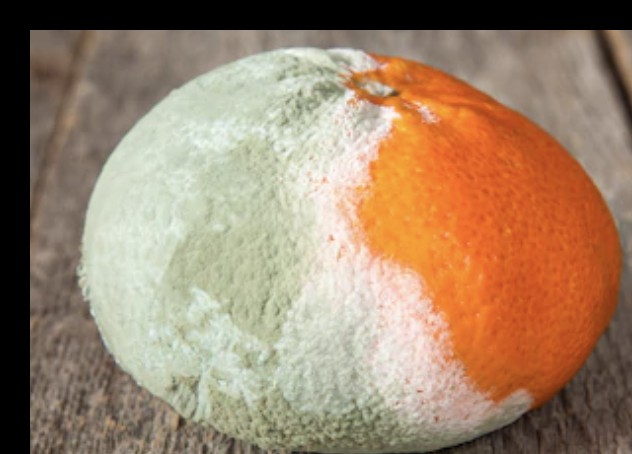rotten_orange: (81, 47, 621, 454)
